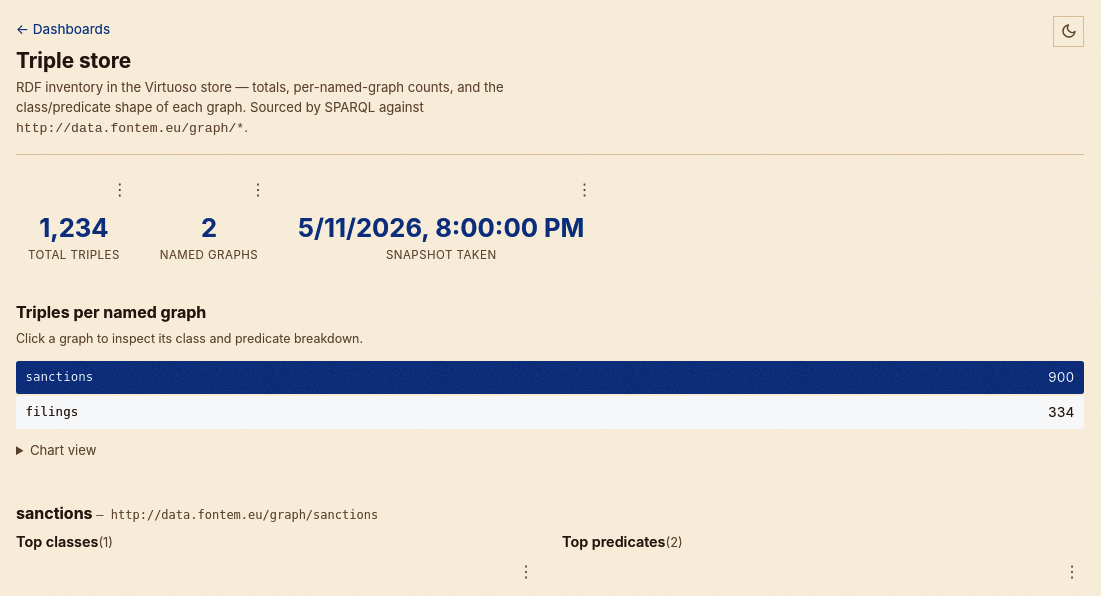
TriplesDQView › switches the detail panel when a different graph row is clicked
Click the button with test id "triples-graph-row-filings" at (52, 412), box [16,396,1084,429]
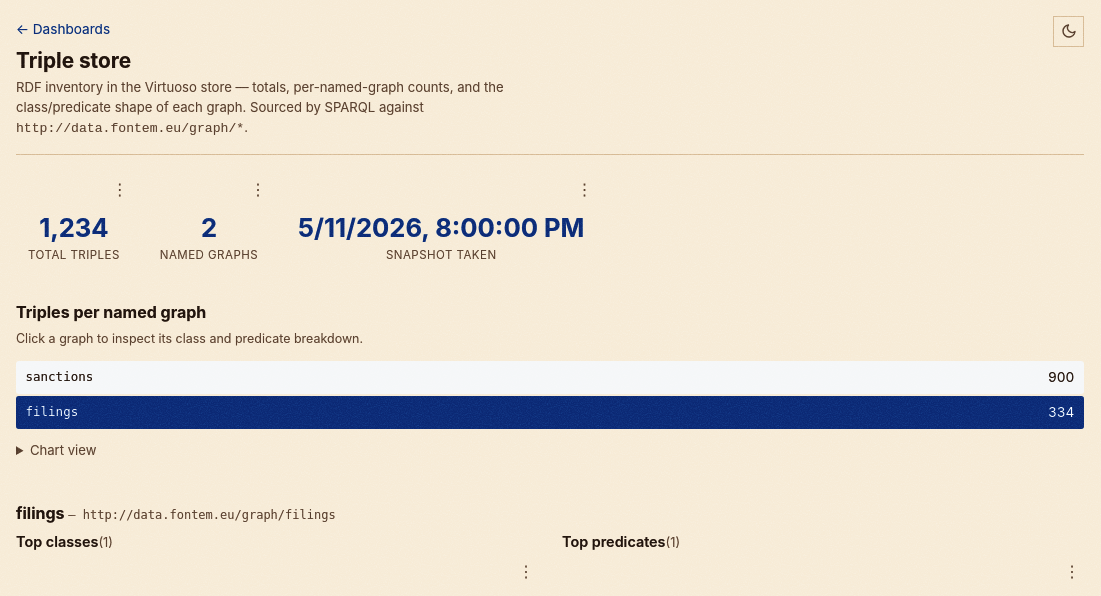
Now the element with test id "triples-graph-detail" shows "filings", box [16,503,68,523]
Now the element with test id "triples-graph-detail" shows "http://data.fontem.eu/graph/filings", box [68,508,336,522]
